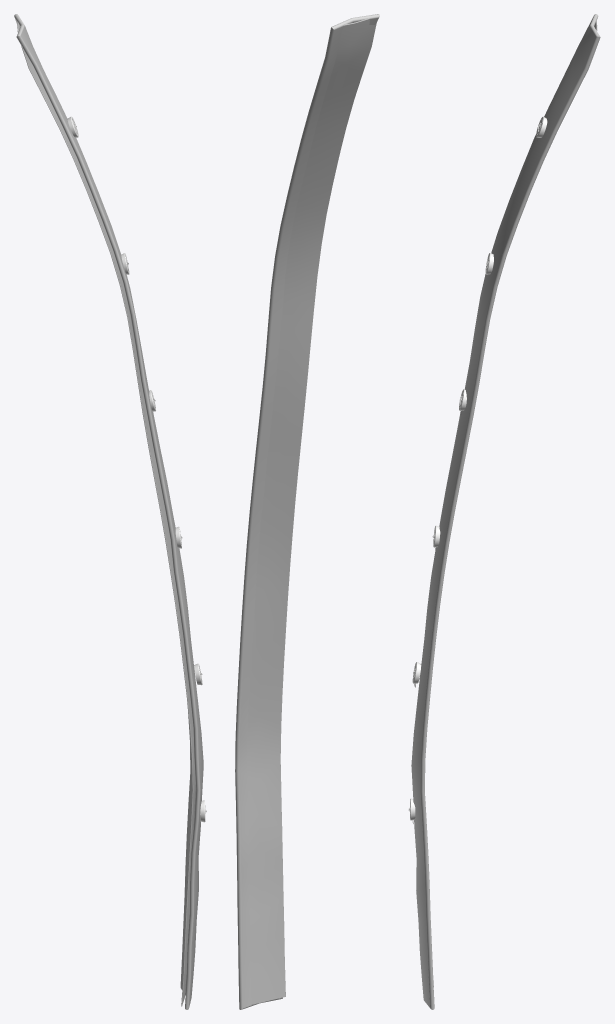
Rendered from Front_Placket.glb.
3 views of the same model, side by side, from view 1: azimuth 90°, elevation 25°; view 2: azimuth 210°, elevation 25°; view 3: azimuth 270°, elevation 25° (orthographic). The views are drawn at different scales.
Visible parts, largest first — view 1: Front_Placket_Node001, Front_Placket_Node; view 2: Front_Placket_Node, Front_Placket_Node001; view 3: Front_Placket_Node001.
Boxes of the visible parts, x1,y1,x2,y2 form: Front_Placket_Node001: [14, 14, 203, 1009]; Front_Placket_Node: [17, 22, 195, 1006]; Front_Placket_Node: [246, 18, 376, 1004]; Front_Placket_Node001: [235, 14, 379, 1009]; Front_Placket_Node001: [411, 14, 600, 1009].
Bounding box in the file's own units: 3.18 × 61.87 × 11.04.
4 materials, 1 textured.
